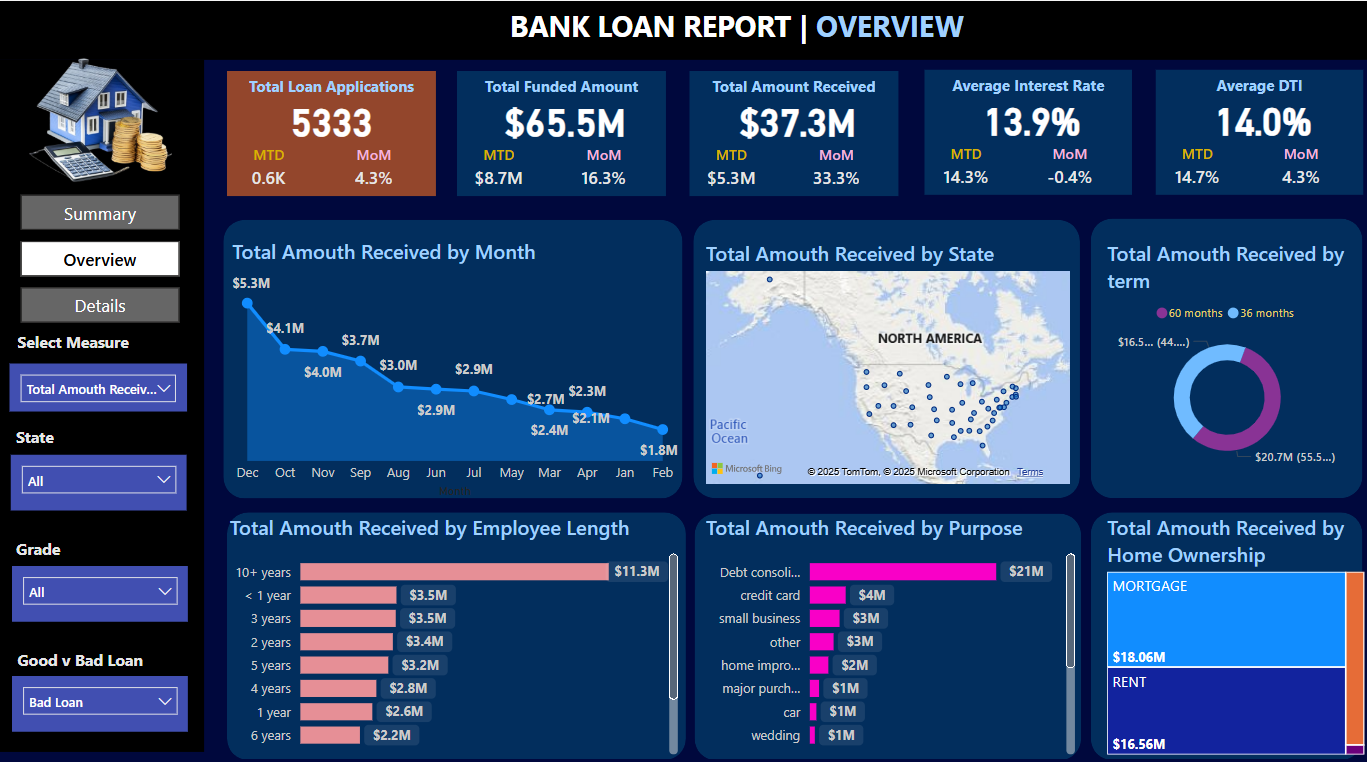

The dashboard page shown, as its layout file describes it:
{"tool":"powerbi","page":{"name":"Overview","canvas":[1280,720],"ordinal":1},"visuals":[{"type":"shape","box":[865,64,193.5,116.6],"z":0,"group":"g4"},{"type":"shape","box":[1081,64,193.5,116.6],"z":0,"group":"g5"},{"type":"shape","box":[214.3,65.4,194.9,116.6],"z":0,"group":"g1"},{"type":"shape","box":[428.9,65.4,194.9,116.6],"z":0,"group":"g2"},{"type":"shape","box":[646.3,65.4,194.9,116.6],"z":0,"group":"g3"},{"type":"shape","box":[211.5,204.5,428.5,260.2],"z":0},{"type":"shape","box":[1.4,54.3,192,645.6],"z":1000},{"type":"card","fields":{"Values":["bank_loan_data.Average Interest Rate"]},"box":[868.3,64.2,193.5,91.9],"z":1000,"group":"g4"},{"type":"card","fields":{"Values":["bank_loan_data.Average DTI"]},"box":[1084.3,64.2,193.5,91.9],"z":1000,"group":"g5"},{"type":"card","fields":{"Values":["bank_loan_data.Total loan application"]},"box":[214.3,65.4,194.9,91.9],"z":1000,"group":"g1"},{"type":"card","fields":{"Values":["bank_loan_data.Total Funded amount"]},"box":[432.2,65.6,194.9,91.9],"z":1000,"group":"g2"},{"type":"card","fields":{"Values":["bank_loan_data.Total Amouth Received"]},"box":[649.6,65.6,194.9,91.9],"z":1000,"group":"g3"},{"type":"shape","box":[0,0,1280.3,54.9],"z":2000},{"type":"textbox","box":[865,64,193.5,34.3],"z":2000,"group":"g4"},{"type":"textbox","box":[1081,64,193.5,34.3],"z":2000,"group":"g5"},{"type":"textbox","box":[214.3,65.4,194.9,34.3],"z":2000,"group":"g1"},{"type":"textbox","box":[428.9,65.4,194.9,34.3],"z":2000,"group":"g2"},{"type":"textbox","box":[646.3,65.4,194.9,34.3],"z":2000,"group":"g3"},{"type":"textbox","box":[473.4,0,470.7,64.5],"z":3000},{"type":"card","title":"MTD","fields":{"Values":["bank_loan_data.MTD Average Interest Rate"]},"box":[865,132.6,77.7,48],"z":3000,"group":"g4"},{"type":"card","title":"MTD","fields":{"Values":["bank_loan_data.MTD Average DTI"]},"box":[1081,132.6,77.7,48],"z":3000,"group":"g5"},{"type":"card","title":"MTD","fields":{"Values":["bank_loan_data.MTD Loan Application"]},"box":[214.3,134,78.2,48],"z":3000,"group":"g1"},{"type":"card","title":"MTD","fields":{"Values":["bank_loan_data.MTD Funded Amount"]},"box":[428.9,134,78.2,48],"z":3000,"group":"g2"},{"type":"card","title":"MTD","fields":{"Values":["bank_loan_data.MTD Total Amount received"]},"box":[646.3,134,78.2,48],"z":3000,"group":"g3"},{"type":"group","id":"g1","title":"Group 1","box":[214.3,65.4,194.8,116.9],"z":4000},{"type":"card","title":"MoM","fields":{"Values":["bank_loan_data.MoM Average Interest rate"]},"box":[961.8,132.6,77.7,48],"z":4000,"group":"g4"},{"type":"card","title":"MoM","fields":{"Values":["bank_loan_data.MoM Average DTI"]},"box":[1177.8,132.6,77.7,48],"z":4000,"group":"g5"},{"type":"card","title":"MoM","fields":{"Values":["bank_loan_data.MoM Loan Application"]},"box":[311.7,134,78.2,48],"z":4000,"group":"g1"},{"type":"card","title":"MoM","fields":{"Values":["bank_loan_data.MoM Total Funded Amount"]},"box":[526.3,134,78.2,48],"z":4000,"group":"g2"},{"type":"card","title":"MoM","fields":{"Values":["bank_loan_data.MoM Total Amount received"]},"box":[743.7,134,78.2,48],"z":4000,"group":"g3"},{"type":"group","id":"g2","title":"Group 1","box":[428.9,65.4,197.6,116.9],"z":5000},{"type":"group","id":"g3","title":"Group 1","box":[646.3,65.4,199,116.9],"z":6000},{"type":"group","id":"g4","title":"Group 1","box":[865,64,196.2,116.9],"z":7000},{"type":"group","id":"g5","title":"Group 1","box":[1081,64,196.2,116.9],"z":8000},{"type":"slicer","fields":{"Values":["bank_loan_data.address_state"]},"box":[13.1,423.3,164.4,52.4],"z":9000},{"type":"textbox","box":[13.1,391.3,65.5,30.5],"z":10000},{"type":"slicer","fields":{"Values":["bank_loan_data.grade"]},"box":[14.5,526.5,164.4,52.4],"z":11000},{"type":"textbox","box":[13.1,496,65.5,30.5],"z":12000},{"type":"slicer","fields":{"Values":["bank_loan_data.Good Vs Bad Loan"]},"box":[14.5,629.8,164.4,52.4],"z":13000},{"type":"textbox","box":[13.5,599.4,155.1,30.8],"z":14000},{"type":"areaChart","fields":{"Y":["bank_loan_data.Total Funded amount"],"Category":["Date Table.Month"]},"box":[214.3,219.8,425.7,247.7],"z":15000},{"type":"slicer","fields":{"Values":["Select Measure.Select Measure"]},"box":[11.1,338.1,165.6,44.5],"z":16000},{"type":"textbox","box":[13.9,303.3,123.8,30.6],"z":17000},{"type":"shape","box":[649.8,204.3,360.6,259.7],"z":18000},{"type":"map","fields":{"X":["bank_loan_data.Total Funded amount"],"Category":["bank_loan_data.address_state"]},"box":[656,222.8,349.5,232.6],"z":19000},{"type":"shape","box":[1020.3,203.1,253.5,260.9],"z":20000},{"type":"donutChart","fields":{"Y":["bank_loan_data.Total Funded amount"],"Category":["bank_loan_data.term"]},"box":[1030.2,222.8,233.8,217.8],"z":21000},{"type":"shape","box":[214.2,476.3,428.3,231.4],"z":22000},{"type":"barChart","fields":{"Y":["bank_loan_data.Total Funded amount"],"Category":["bank_loan_data.emp_length"]},"box":[211.7,477.5,428.3,230.2],"z":23000},{"type":"shape","box":[651.1,477.5,360.6,230.2],"z":24000},{"type":"barChart","fields":{"Y":["bank_loan_data.Total Funded amount"],"Category":["bank_loan_data.purpose"]},"box":[656,477.5,354.5,230.2],"z":25000},{"type":"shape","box":[1020.3,476.3,253.5,231.4],"z":26000},{"type":"treemap","fields":{"Values":["bank_loan_data.Total Funded amount"],"Group":["bank_loan_data.home_ownership"]},"box":[1030.2,477.5,249.8,230.2],"z":27000},{"type":"pageNavigator","box":[22.2,180.9,148.9,121.8],"z":27001},{"type":"image","box":[1.2,30.8,192,150.2],"z":27002}]}

Visuals, with their boxes in screenshot pixels (x1, y1, x2, y2), scaled from the page's 1280x720 canvas onto the 1367x762 screenshot:
shape: select_region(924, 68, 1130, 191)
shape: select_region(1154, 68, 1361, 191)
shape: select_region(229, 69, 437, 193)
shape: select_region(458, 69, 666, 193)
shape: select_region(690, 69, 898, 193)
shape: select_region(226, 216, 684, 492)
shape: select_region(1, 57, 207, 741)
card - bank_loan_data.Average Interest Rate: select_region(927, 68, 1134, 165)
card - bank_loan_data.Average DTI: select_region(1158, 68, 1365, 165)
card - bank_loan_data.Total loan application: select_region(229, 69, 437, 166)
card - bank_loan_data.Total Funded amount: select_region(462, 69, 670, 167)
card - bank_loan_data.Total Amouth Received: select_region(694, 69, 902, 167)
shape: select_region(0, 0, 1366, 58)
textbox: select_region(924, 68, 1130, 104)
textbox: select_region(1154, 68, 1361, 104)
textbox: select_region(229, 69, 437, 106)
textbox: select_region(458, 69, 666, 106)
textbox: select_region(690, 69, 898, 106)
textbox: select_region(506, 0, 1008, 68)
"MTD" card: select_region(924, 140, 1007, 191)
"MTD" card: select_region(1154, 140, 1237, 191)
"MTD" card: select_region(229, 142, 312, 193)
"MTD" card: select_region(458, 142, 542, 193)
"MTD" card: select_region(690, 142, 774, 193)
"Group 1" group: select_region(229, 69, 437, 193)
"MoM" card: select_region(1027, 140, 1110, 191)
"MoM" card: select_region(1258, 140, 1341, 191)
"MoM" card: select_region(333, 142, 416, 193)
"MoM" card: select_region(562, 142, 646, 193)
"MoM" card: select_region(794, 142, 878, 193)
"Group 1" group: select_region(458, 69, 669, 193)
"Group 1" group: select_region(690, 69, 903, 193)
"Group 1" group: select_region(924, 68, 1133, 191)
"Group 1" group: select_region(1154, 68, 1364, 191)
slicer - bank_loan_data.address_state: select_region(14, 448, 190, 503)
textbox: select_region(14, 414, 84, 446)
slicer - bank_loan_data.grade: select_region(15, 557, 191, 613)
textbox: select_region(14, 525, 84, 557)
slicer - bank_loan_data.Good Vs Bad Loan: select_region(15, 667, 191, 722)
textbox: select_region(14, 634, 180, 667)
areaChart - bank_loan_data.Total Funded amount x Date Table.Month: select_region(229, 233, 684, 495)
slicer - Select Measure.Select Measure: select_region(12, 358, 189, 405)
textbox: select_region(15, 321, 147, 353)
shape: select_region(694, 216, 1079, 491)
map - bank_loan_data.Total Funded amount x bank_loan_data.address_state: select_region(701, 236, 1074, 482)
shape: select_region(1090, 215, 1360, 491)
donutChart - bank_loan_data.Total Funded amount x bank_loan_data.term: select_region(1100, 236, 1350, 466)
shape: select_region(229, 504, 686, 749)
barChart - bank_loan_data.Total Funded amount x bank_loan_data.emp_length: select_region(226, 505, 684, 749)
shape: select_region(695, 505, 1080, 749)
barChart - bank_loan_data.Total Funded amount x bank_loan_data.purpose: select_region(701, 505, 1079, 749)
shape: select_region(1090, 504, 1360, 749)
treemap - bank_loan_data.Total Funded amount x bank_loan_data.home_ownership: select_region(1100, 505, 1366, 749)
pageNavigator: select_region(24, 191, 183, 320)
image: select_region(1, 33, 206, 192)
